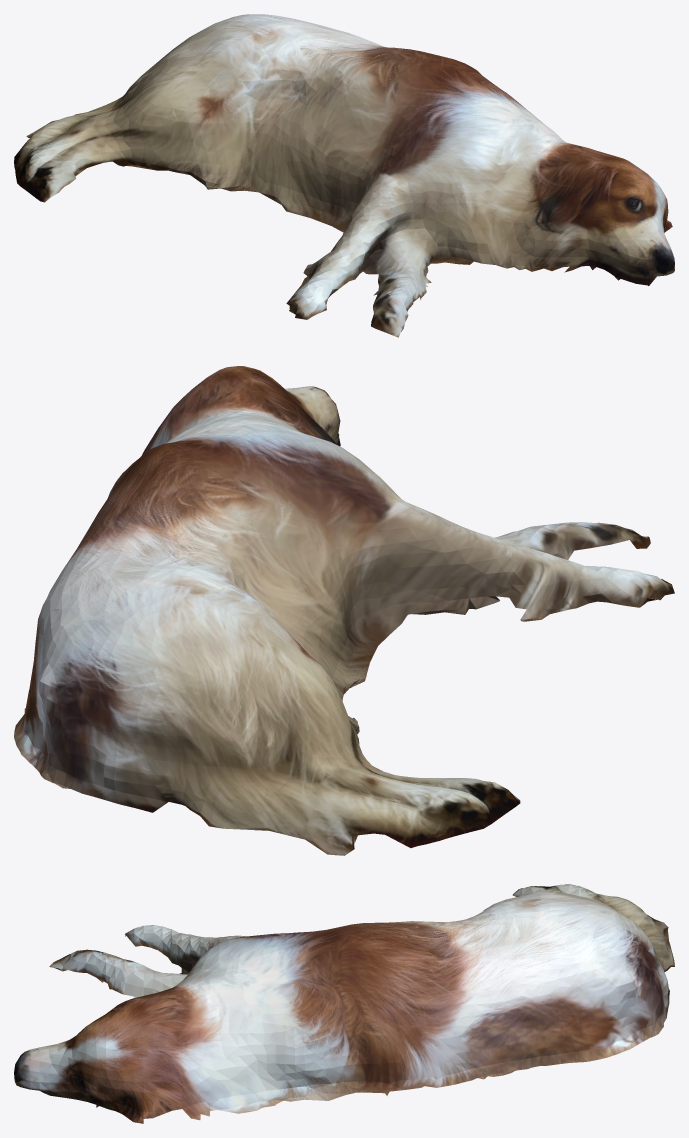
File: dog.glb
3 renders of one model, top to bottom at view 1: azimuth 30°, elevation 25°; view 2: azimuth 150°, elevation 25°; view 3: azimuth 270°, elevation 25°, orthographic. The views are drawn at different scales.
Parts seen in each view (by area): view 1: mesh; view 2: mesh; view 3: mesh.
Boxes of the visible parts, <box> form: mesh: <box>14,14,674,337</box>; mesh: <box>14,366,674,855</box>; mesh: <box>14,884,674,1123</box>.
Bounding box in the file's own units: 0.5754 × 0.1521 × 0.6987.
1 material, 1 textured.
